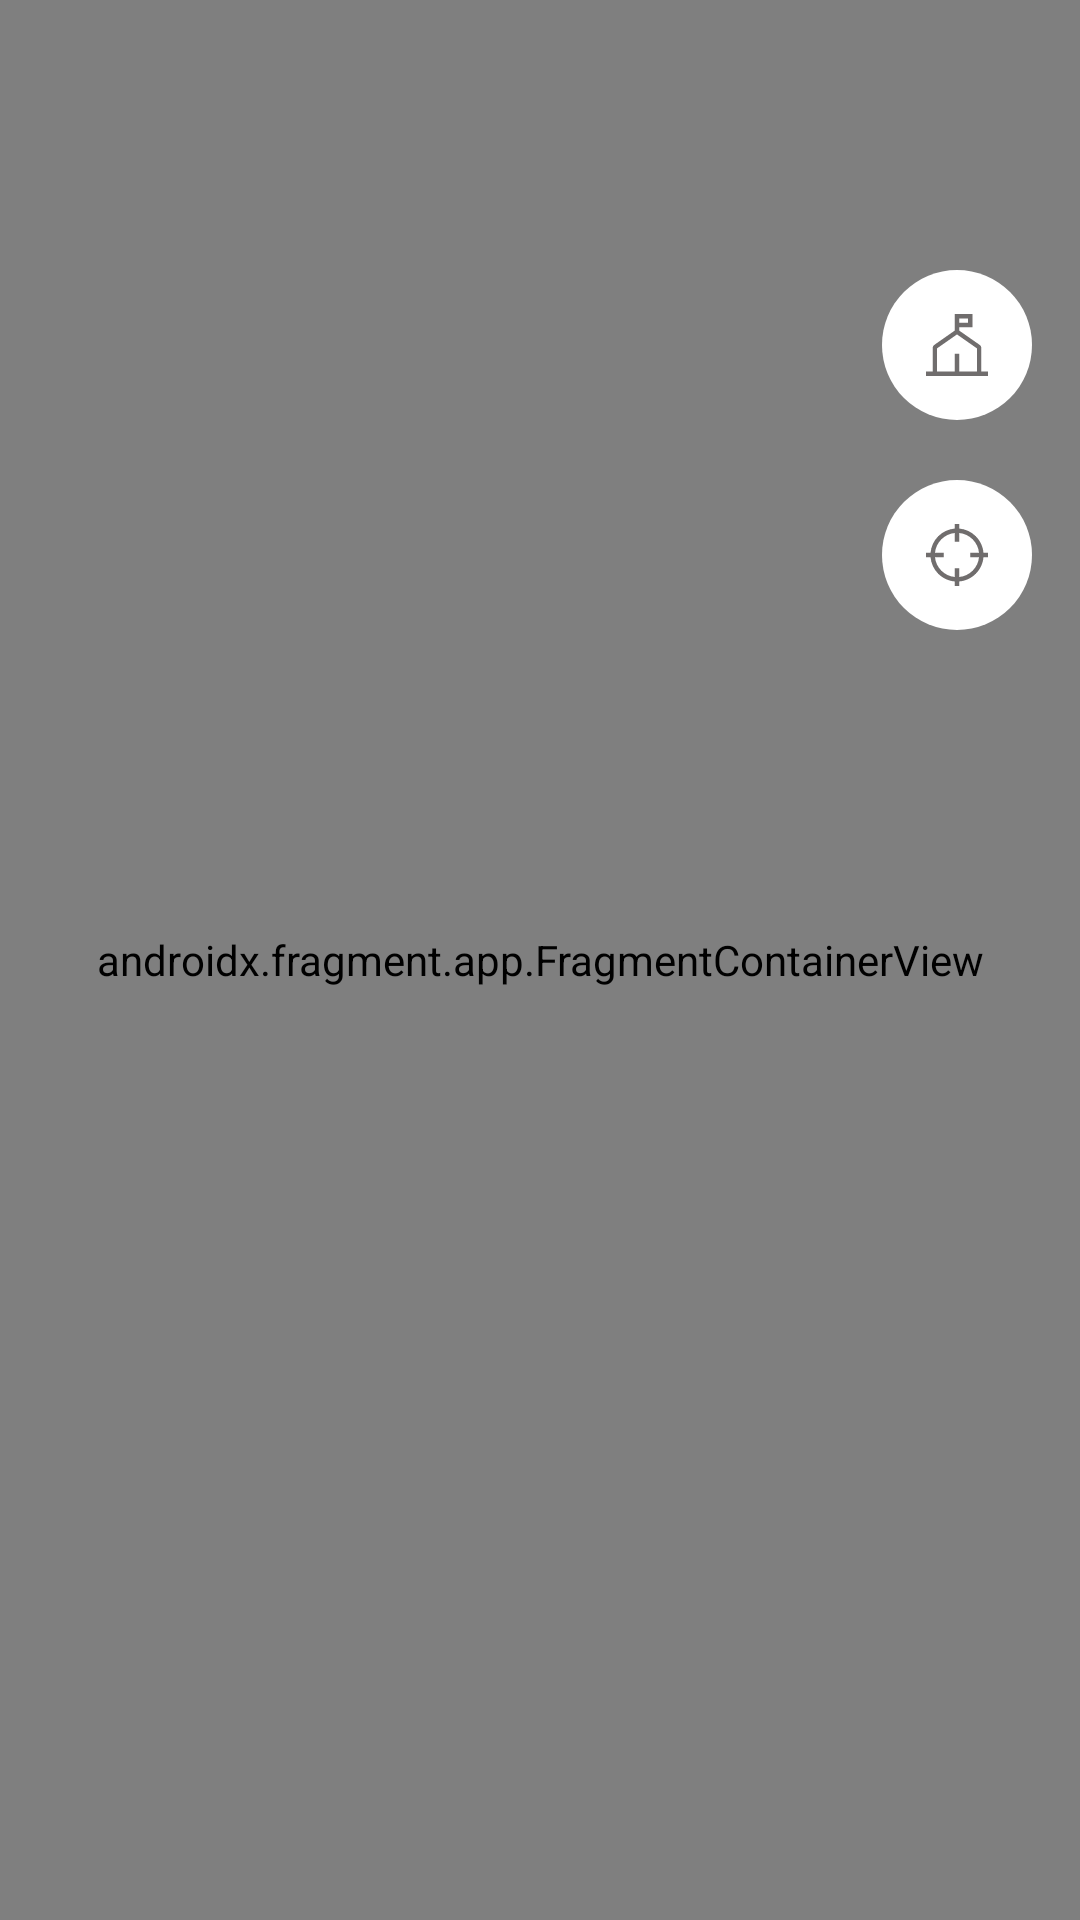

Point at icon controls on the screen. Image size 1080px×1920px, points as [x,y].
custom circle host camp: [957,345]
custom circle recenter: [957,555]
